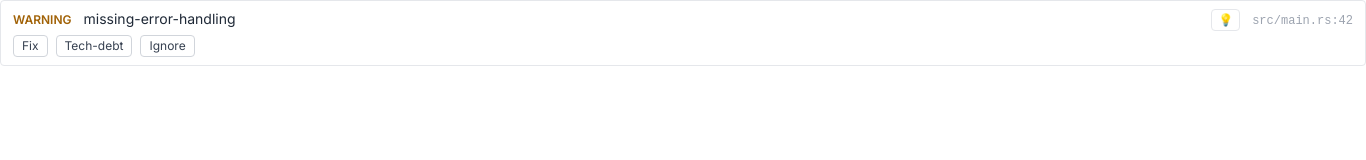
Test: FindingsTable › the toggle has aria-expanded reflecting state for screen readers
Click the button with test id "suggestion-toggle-f1" at (1226,20), box [1211,9,1240,31]
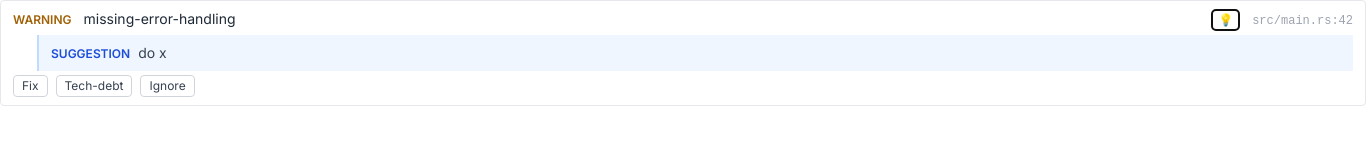
Result: the button with test id "suggestion-toggle-f1" is expanded at [1211,9,1240,31]
